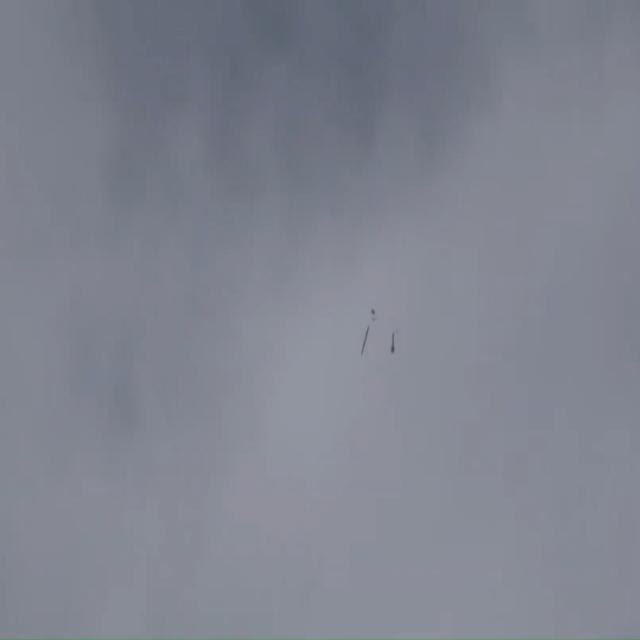Rocket: (391, 332, 395, 352)
